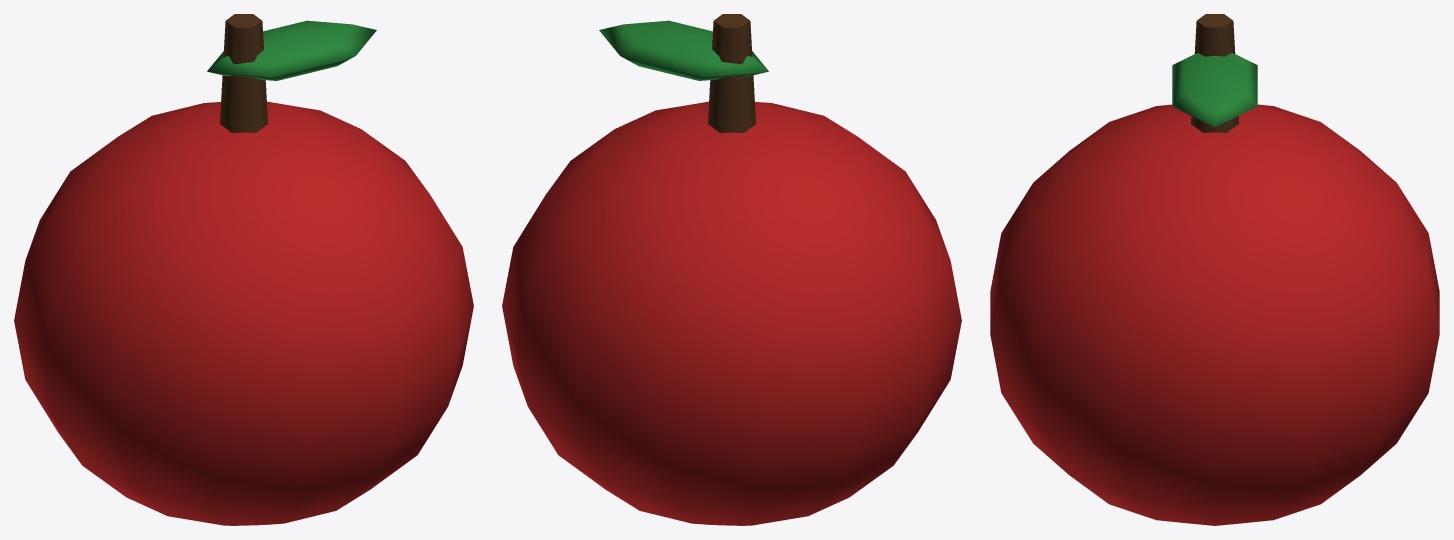
The model's file is apple.glb.
3 views of the same model, side by side, from view 1: azimuth 30°, elevation 25°; view 2: azimuth 150°, elevation 25°; view 3: azimuth 270°, elevation 25° (orthographic).
Parts seen in each view (by area): view 1: apple; view 2: apple; view 3: apple.
Boxes of the visible parts, bbox=[...] form: apple: bbox=[14, 14, 473, 525]; apple: bbox=[502, 14, 961, 525]; apple: bbox=[990, 14, 1439, 525].
Size of the model in its own units: 0.15 by 0.174 by 0.1462.
